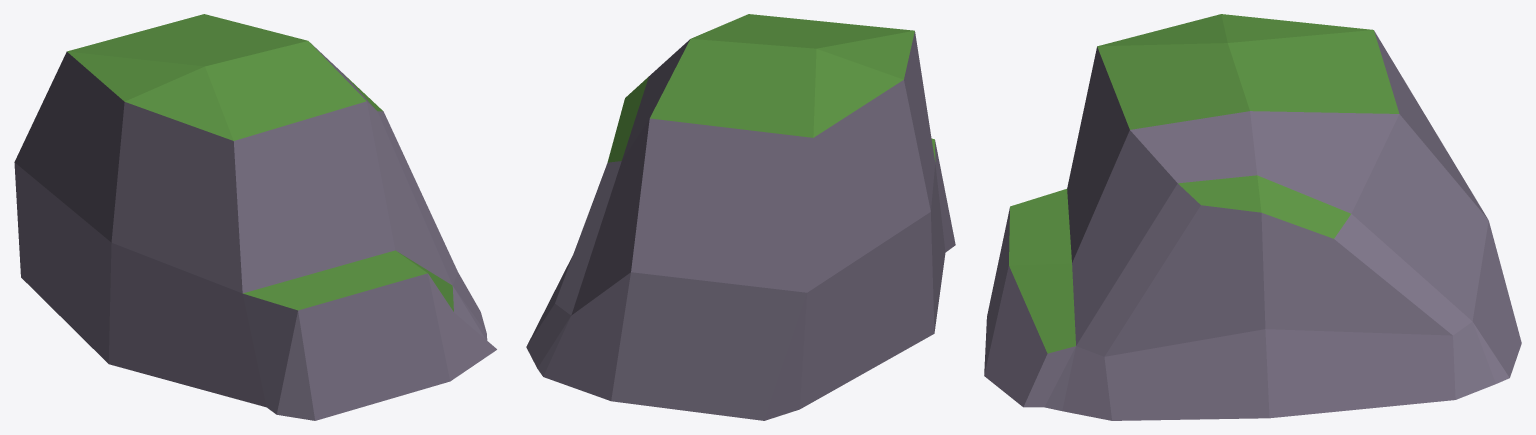
File: Rock_Moss_5.glb
The picture shows the model from 3 angles, left to right: view 1: azimuth 30°, elevation 25°; view 2: azimuth 150°, elevation 25°; view 3: azimuth 270°, elevation 25°; orthographic projection. The views are drawn at different scales.
Visible parts, largest first — view 1: Rock_Moss_5_Cube.025; view 2: Rock_Moss_5_Cube.025; view 3: Rock_Moss_5_Cube.025.
Boxes of the visible parts, x1,y1,x2,y2 form: Rock_Moss_5_Cube.025: (14,14,496,420); Rock_Moss_5_Cube.025: (526,14,955,420); Rock_Moss_5_Cube.025: (984,14,1521,420).
Bounding box in the file's own units: 0.6632 × 0.5767 × 0.9148.
